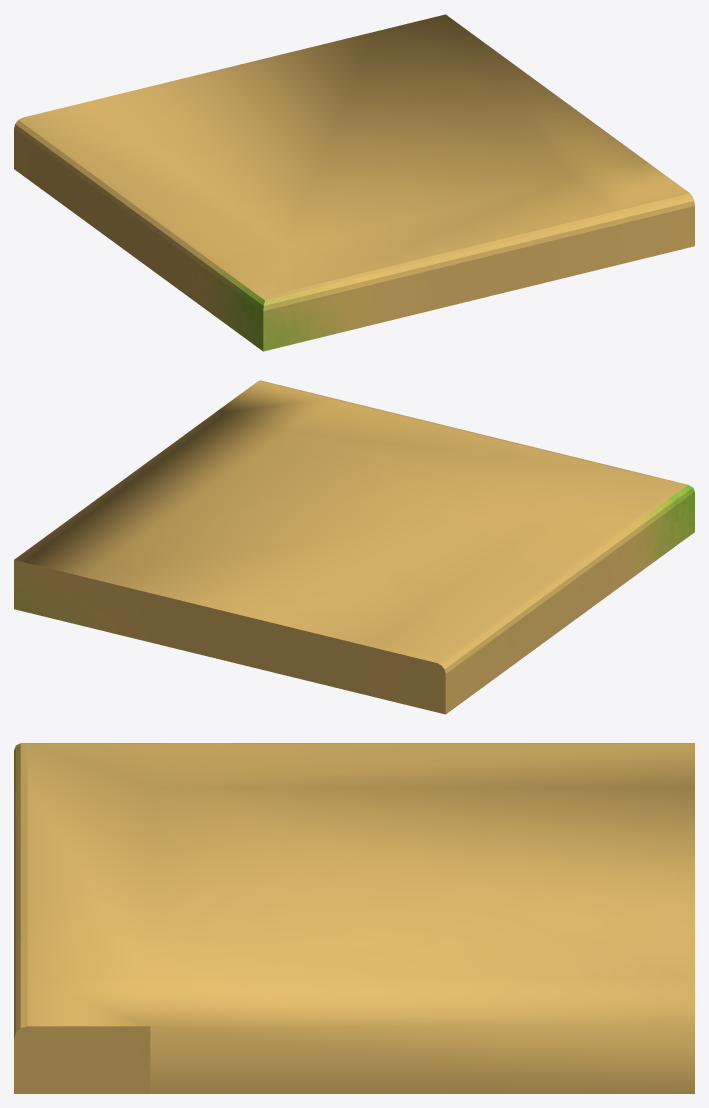
Rendered from Map010.obj.
3 views of the same model, one above another, from view 1: azimuth 30°, elevation 25°; view 2: azimuth 150°, elevation 25°; view 3: azimuth 270°, elevation 25° (orthographic). The views are drawn at different scales.
Parts seen in each view (by area): view 1: Map.010_Plane.044; view 2: Map.010_Plane.044; view 3: Map.010_Plane.044.
Boxes of the visible parts, x1=… form: Map.010_Plane.044: x1=14, y1=14, x2=694, y2=351; Map.010_Plane.044: x1=14, y1=380, x2=694, y2=714; Map.010_Plane.044: x1=14, y1=743, x2=694, y2=1093.
Bounding box in the file's own units: 1 × 0.1093 × 1.
